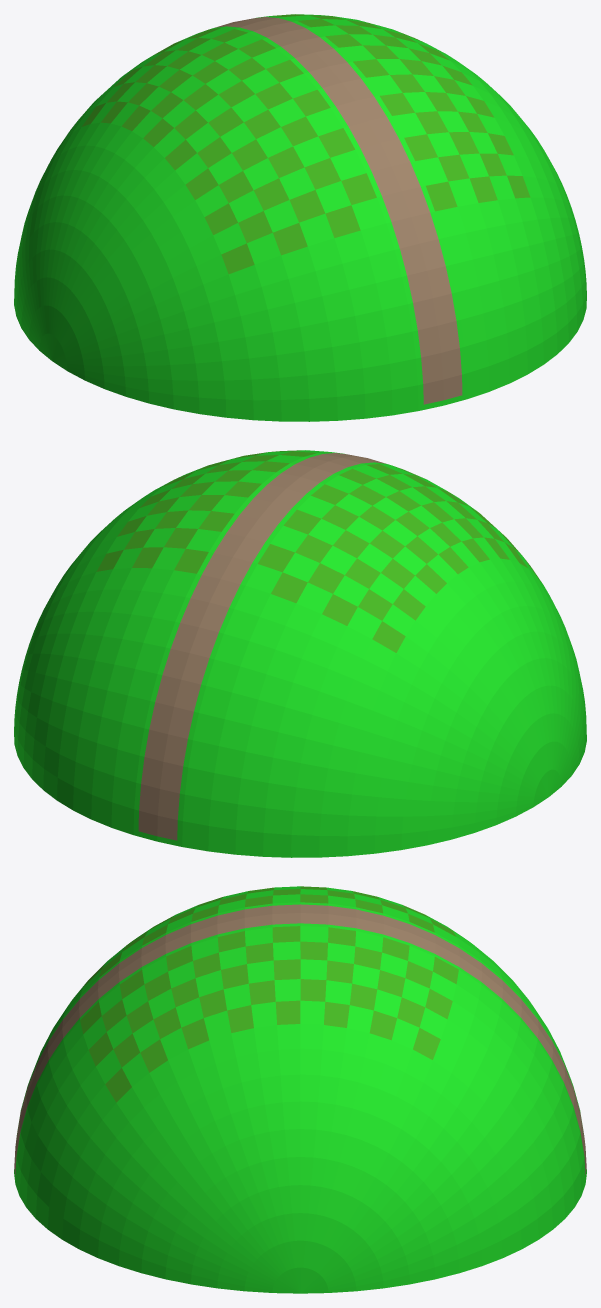
The model's file is Esfera.fbx.
3 views of the same model, one above another, from view 1: azimuth 30°, elevation 25°; view 2: azimuth 150°, elevation 25°; view 3: azimuth 270°, elevation 25° (orthographic).
Visible parts, largest first — view 1: Sphere; view 2: Sphere; view 3: Sphere.
Boxes of the visible parts, left/top/right/bottom form: Sphere: left=14, top=14, right=586, bottom=421; Sphere: left=14, top=450, right=586, bottom=857; Sphere: left=14, top=886, right=586, bottom=1293.
Size of the model in its own units: 200 by 100 by 200.
